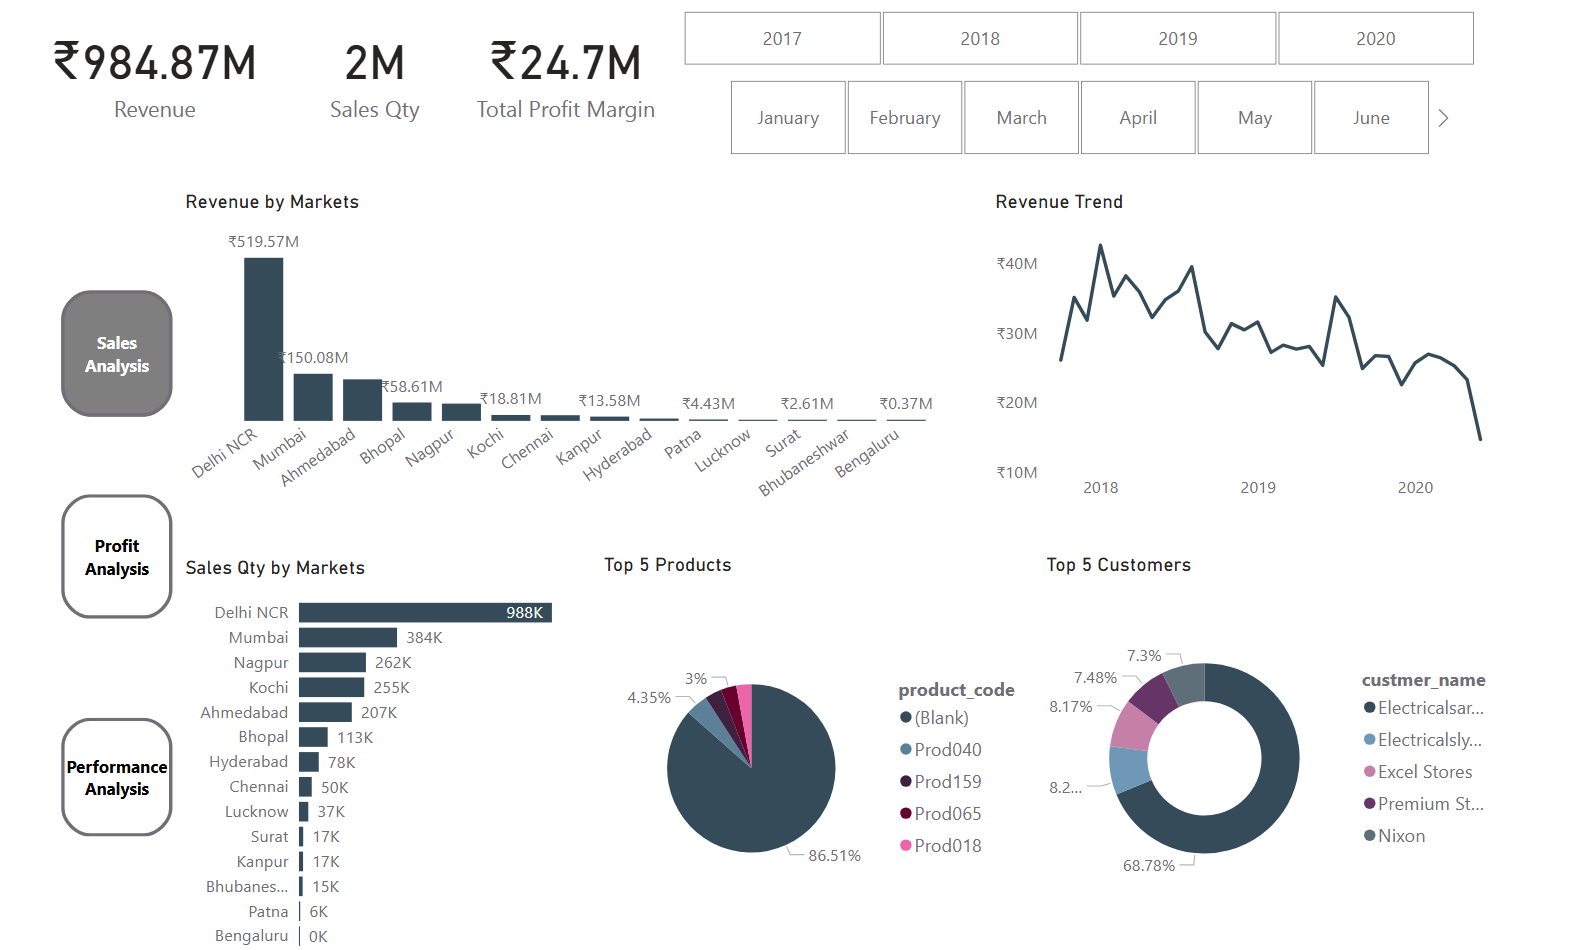

The dashboard page shown, as its layout file describes it:
{"tool":"powerbi","page":{"name":"Sales Analysis","canvas":[1280,850],"ordinal":0},"visuals":[{"type":"card","fields":{"Values":["BaseMeasures.Revenue"]},"box":[0,0,200,142],"z":0},{"type":"card","fields":{"Values":["BaseMeasures.Sales Qty"]},"box":[200,0,186,142],"z":1000},{"type":"columnChart","title":"Revenue by Markets","fields":{"Category":["sales markets.markets_name"],"Y":["BaseMeasures.Revenue"]},"box":[122.5,175,675,285],"z":2000},{"type":"barChart","title":"Sales Qty by Markets","fields":{"Y":["BaseMeasures.Sales Qty"],"Category":["sales markets.markets_name"]},"box":[122.5,495,365,355],"z":3000},{"type":"slicer","fields":{"Values":["sales date.year"]},"box":[538,12,740,60],"z":4000},{"type":"slicer","fields":{"Values":["sales date.cy_date.Variation.Date Hierarchy.Month"]},"box":[578,72,660,78],"z":5000},{"type":"donutChart","title":"Top 5 Customers","fields":{"Category":["sales customers.custmer_name"],"Y":["BaseMeasures.Revenue"]},"box":[875,492.5,405,340],"z":6000},{"type":"pieChart","title":"Top 5 Products","fields":{"Category":["sales products.product_code"],"Y":["BaseMeasures.Revenue"]},"box":[487.5,492.5,387.5,357.5],"z":7000},{"type":"lineChart","title":"Revenue Trend","fields":{"Y":["BaseMeasures.Revenue"],"Category":["sales date.cy_date"]},"box":[830,175,450,280],"z":8000},{"type":"actionButton","box":[10,628.3,113.3,120],"z":8001,"group":"g1"},{"type":"actionButton","box":[10,433.3,113.3,125],"z":8002,"group":"g1"},{"type":"actionButton","box":[10,255,113.3,126.7],"z":8003,"group":"g1"},{"type":"group","id":"g1","title":"Group 1","box":[10,255,113.3,493.3],"z":8004},{"type":"card","fields":{"Values":["BaseMeasures.Total Profit Margin"]},"box":[372,0,174,142],"z":8005}]}

Visuals, with their boxes on the page's 1280x850 design canvas (x1, y1, x2, y2). These are canvas units, not pixel positions in the 1576x950 screenshot, which may show the page scaled, cropped or inside an application window:
card - BaseMeasures.Revenue: 0:0:200:142
card - BaseMeasures.Sales Qty: 200:0:386:142
"Revenue by Markets" columnChart: 122:175:798:460
"Sales Qty by Markets" barChart: 122:495:488:850
slicer - sales date.year: 538:12:1278:72
slicer - sales date.cy_date.Variation.Date Hierarchy.Month: 578:72:1238:150
"Top 5 Customers" donutChart: 875:492:1280:832
"Top 5 Products" pieChart: 488:492:875:850
"Revenue Trend" lineChart: 830:175:1280:455
actionButton: 10:628:123:748
actionButton: 10:433:123:558
actionButton: 10:255:123:382
"Group 1" group: 10:255:123:748
card - BaseMeasures.Total Profit Margin: 372:0:546:142
